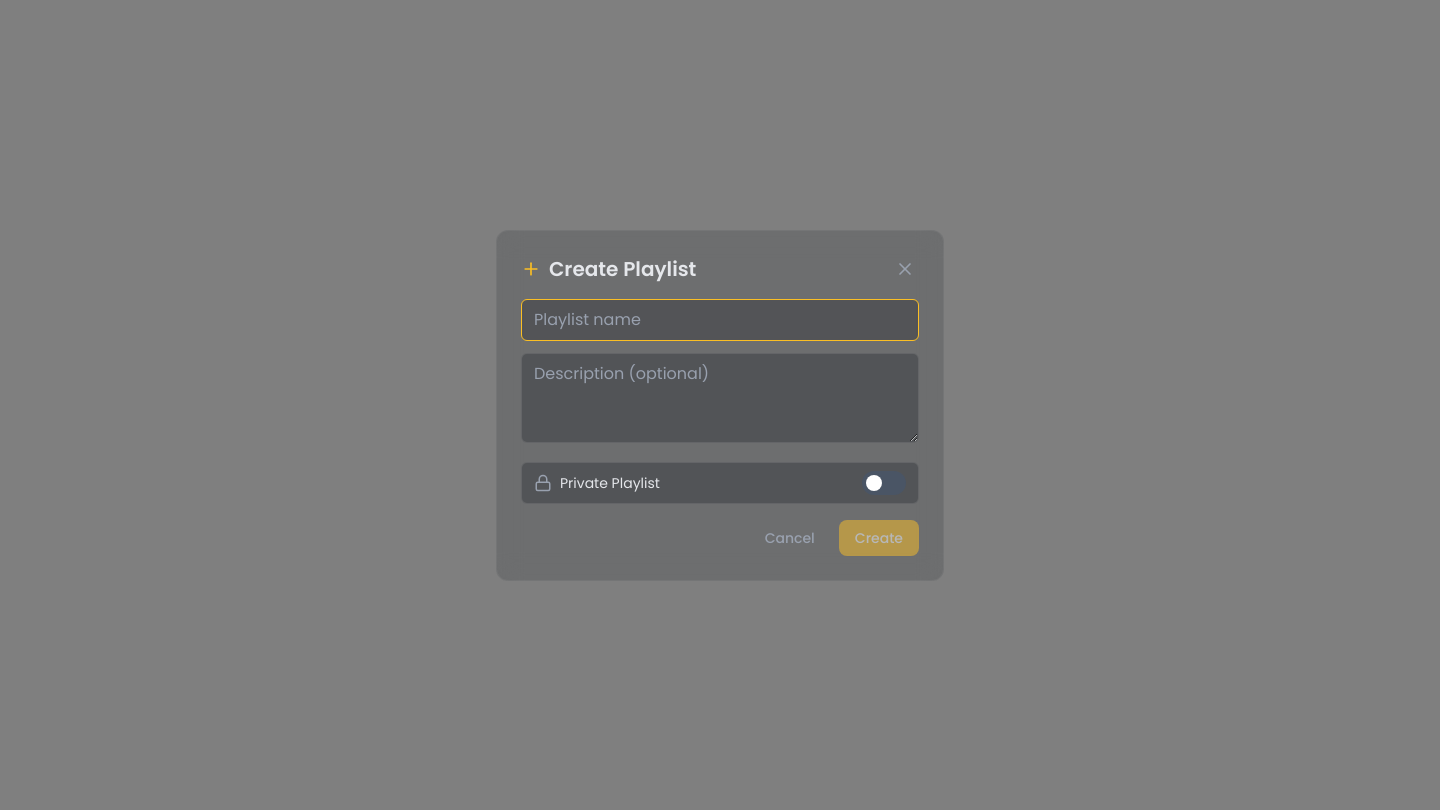
Test case: PlaylistModal › create mode › enables create button when name is provided
The image size is (1440, 810).
Type "New Playlist" into the field with placeholder "Playlist name". click: x=720, y=320
box: top-left (521, 298), bottom-right (919, 340)
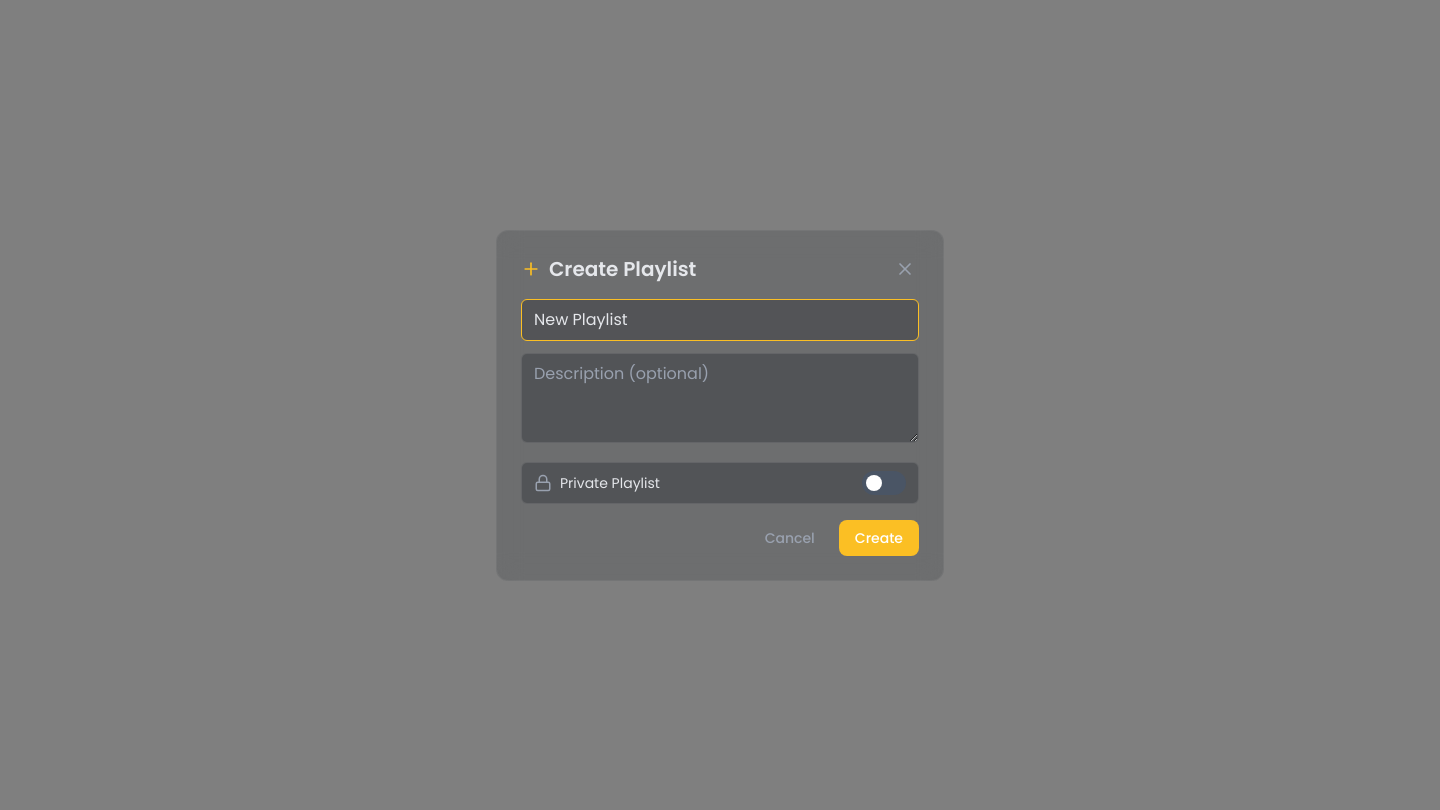
Expected: the button "Create" is enabled, top-left (839, 520), bottom-right (919, 556)
